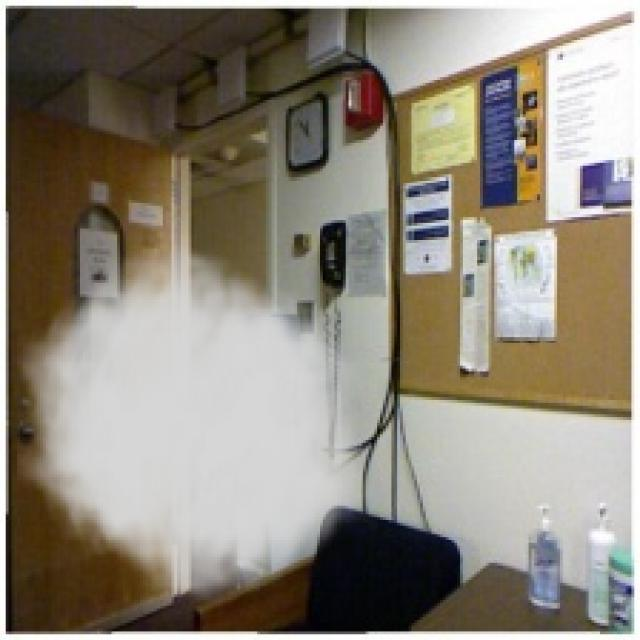Smoke: (17, 235, 380, 614)
